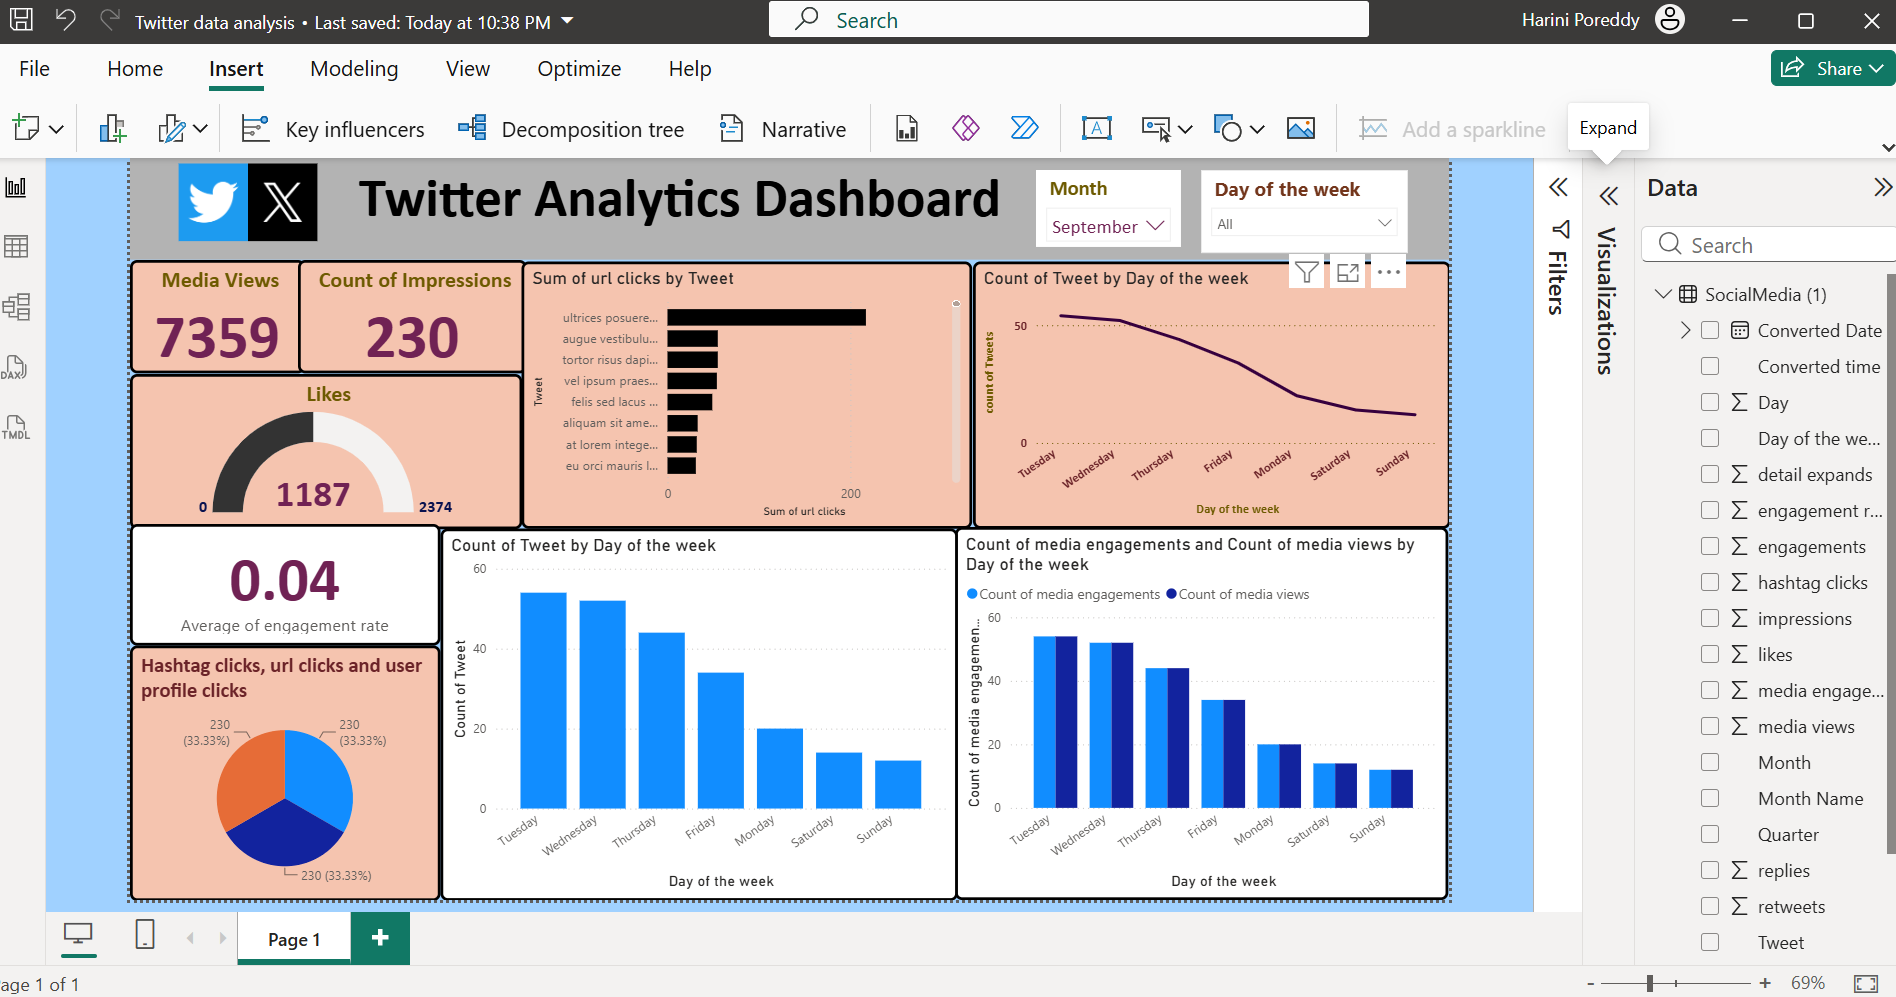

The page's visual inventory and layout, read from the dashboard file:
{"tool":"powerbi","page":{"name":"Page 1","canvas":[1280,720],"ordinal":0},"visuals":[{"type":"textbox","box":[0,0,1280.8,98.8],"z":0},{"type":"card","title":"Media Views ","fields":{"Values":["Sum(SocialMedia (1).media views)"]},"box":[0,98.8,170,110.1],"z":1000},{"type":"card","title":"Count of Impressions","fields":{"Values":["CountNonNull(SocialMedia (1).impressions)"]},"box":[163.5,98.8,221.8,110.1],"z":2000},{"type":"gauge","title":"Likes ","fields":{"Y":["Sum(SocialMedia (1).likes)"]},"box":[0,208.9,380.5,150.6],"z":3000},{"type":"slicer","fields":{"Values":["SocialMedia (1).Month Name "]},"box":[879.2,11.3,140.9,74.5],"z":4000},{"type":"card","fields":{"Values":["Avg(SocialMedia (1).engagement rate)"]},"box":[0,354.6,301.2,118.2],"z":5000},{"type":"lineChart","fields":{"Category":["SocialMedia (1).Day of the week"],"Y":["CountNonNull(SocialMedia (1).Tweet)"]},"box":[817.7,100.4,463.1,259.1],"z":6000},{"type":"clusteredBarChart","fields":{"Category":["SocialMedia (1).Tweet"],"Y":["Sum(SocialMedia (1).url clicks)"]},"box":[380.5,100.4,437.2,259.1],"z":7000},{"type":"pieChart","title":" Hashtag clicks, url clicks and user profile clicks","fields":{"Y":["CountNonNull(SocialMedia (1).hashtag clicks)","CountNonNull(SocialMedia (1).url clicks)","CountNonNull(SocialMedia (1).user profile clicks)"]},"box":[0,472.8,301.2,247.7],"z":8000},{"type":"clusteredColumnChart","fields":{"Category":["SocialMedia (1).Day of the week"],"Y":["CountNonNull(SocialMedia (1).media engagements)","CountNonNull(SocialMedia (1).media views)"]},"box":[801,357.4,478.5,361.9],"z":9000},{"type":"clusteredColumnChart","fields":{"Category":["SocialMedia (1).Day of the week"],"Y":["CountNonNull(SocialMedia (1).Tweet)"]},"box":[301.2,359.5,502,361.1],"z":10000},{"type":"image","box":[37.9,4.5,153.8,85.8],"z":10001},{"type":"slicer","fields":{"Values":["SocialMedia (1).Day of the week"]},"box":[1039.5,11.3,200.8,81],"z":10002}]}

Visuals, with their boxes on the page's 1280x720 design canvas (x1, y1, x2, y2). These are canvas units, not pixel positions in the 1896x997 screenshot, which may show the page scaled, cropped or inside an application window:
textbox: rect(0, 0, 1281, 99)
"Media Views " card: rect(0, 99, 170, 209)
"Count of Impressions" card: rect(164, 99, 385, 209)
"Likes " gauge: rect(0, 209, 380, 360)
slicer - SocialMedia (1).Month Name : rect(879, 11, 1020, 86)
card - Avg(SocialMedia (1).engagement rate): rect(0, 355, 301, 473)
lineChart - SocialMedia (1).Day of the week x CountNonNull(SocialMedia (1).Tweet): rect(818, 100, 1281, 360)
clusteredBarChart - SocialMedia (1).Tweet x Sum(SocialMedia (1).url clicks): rect(380, 100, 818, 360)
" Hashtag clicks, url clicks and user profile clicks" pieChart: rect(0, 473, 301, 720)
clusteredColumnChart - SocialMedia (1).Day of the week x CountNonNull(SocialMedia (1).media engagements): rect(801, 357, 1280, 719)
clusteredColumnChart - SocialMedia (1).Day of the week x CountNonNull(SocialMedia (1).Tweet): rect(301, 360, 803, 721)
image: rect(38, 4, 192, 90)
slicer - SocialMedia (1).Day of the week: rect(1040, 11, 1240, 92)
